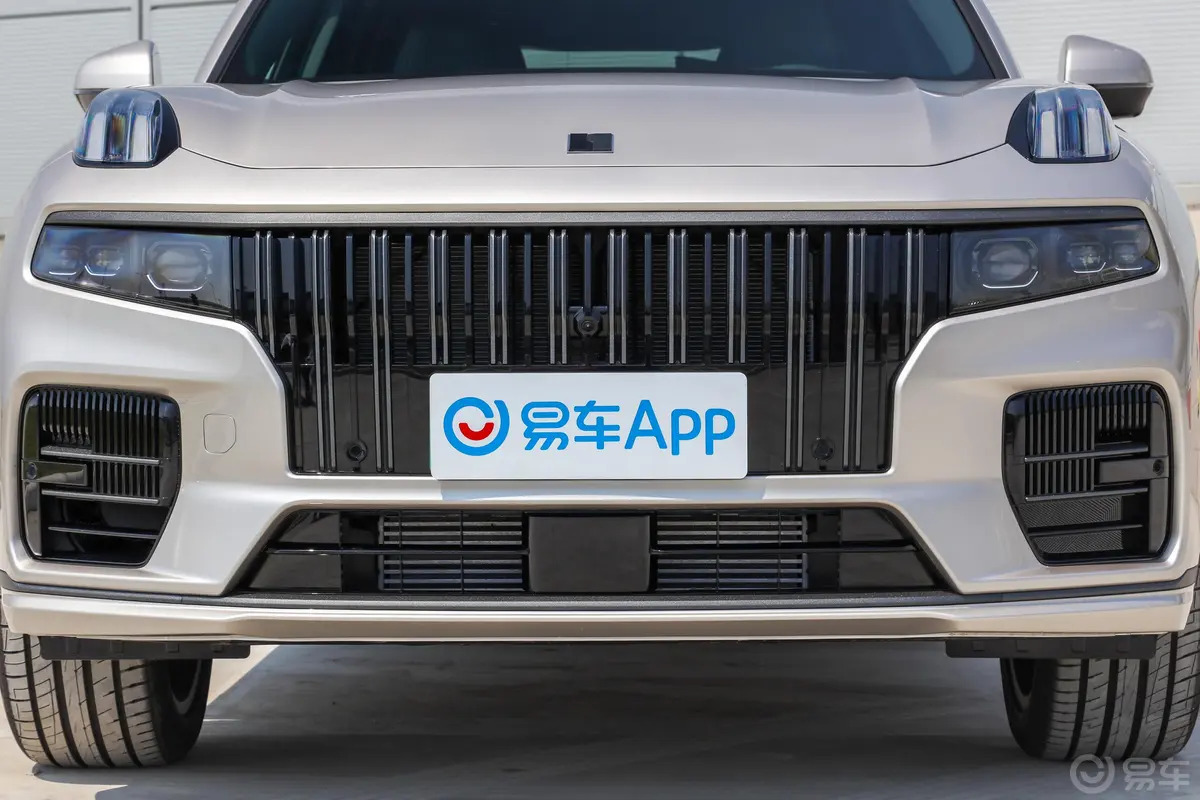LINK&CO: (569, 133, 612, 151)
